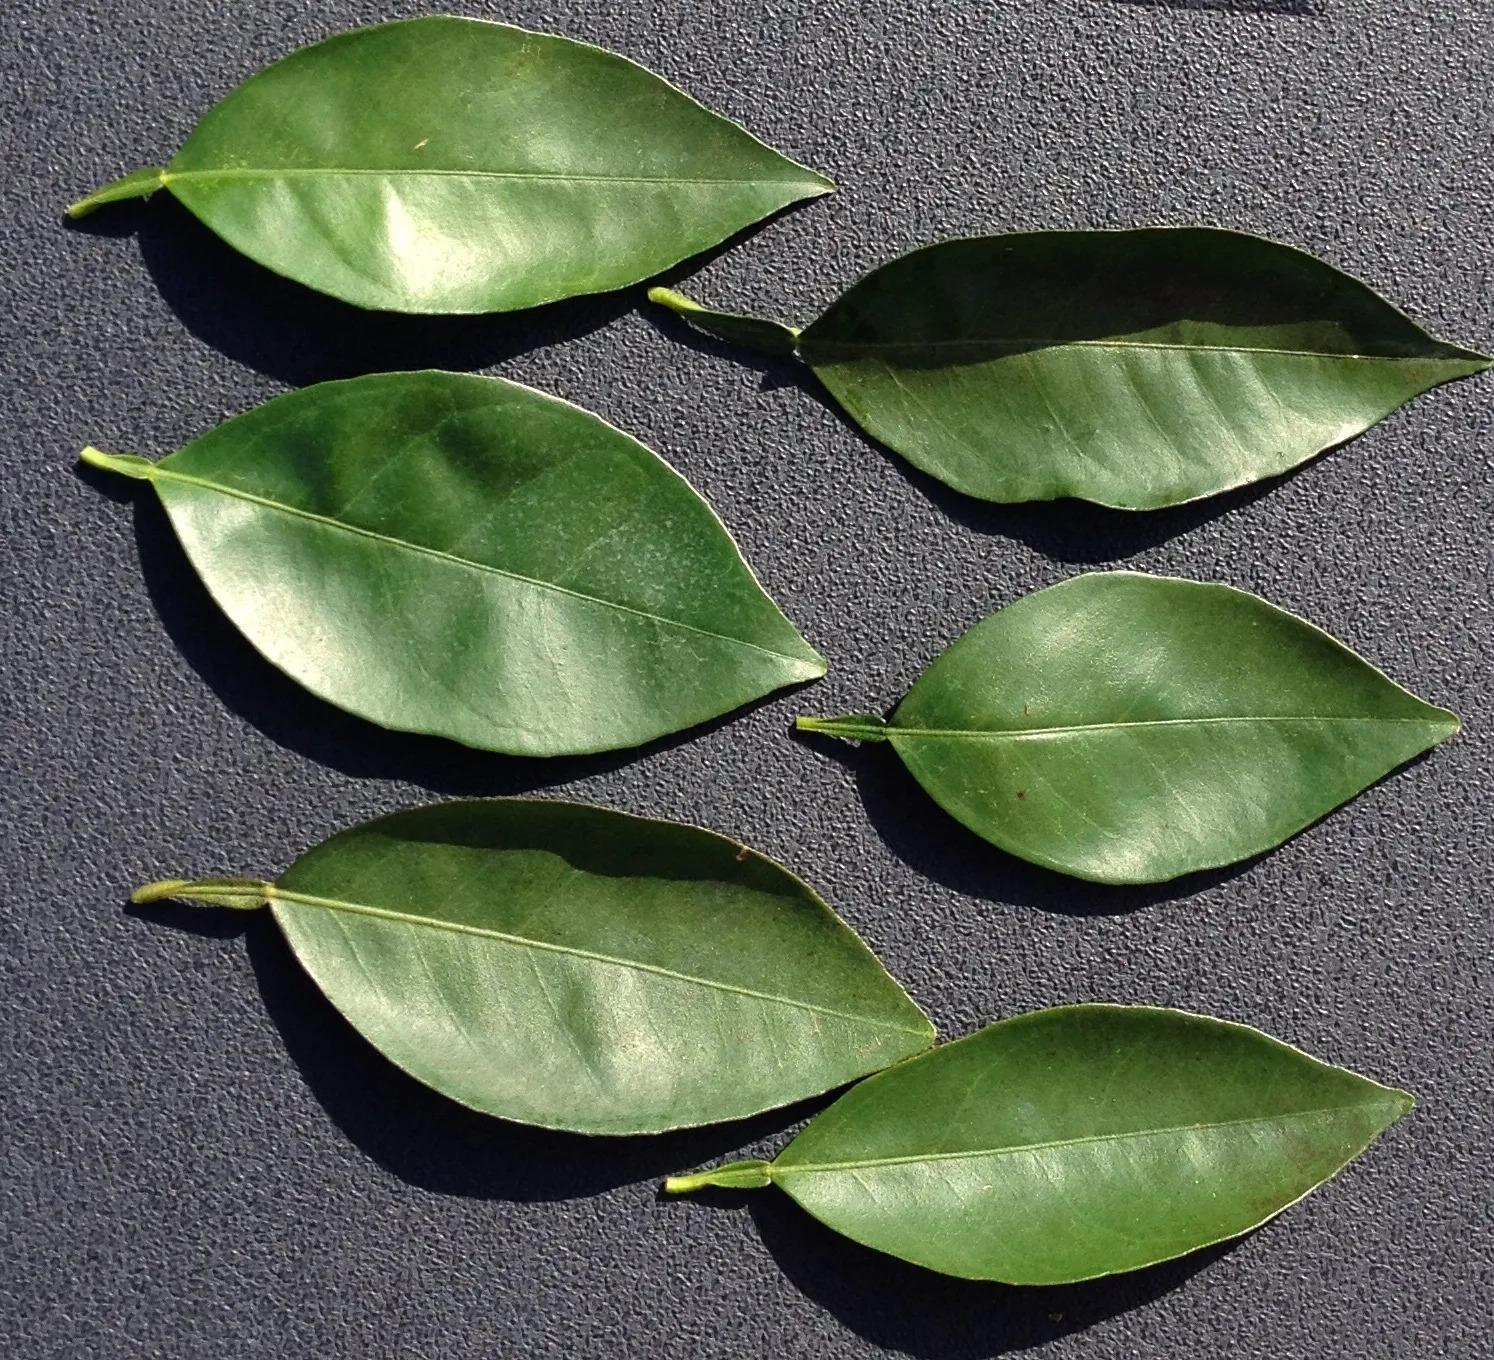Healthy Citrus: (116, 364, 819, 774), (64, 10, 849, 318), (278, 791, 943, 1123), (829, 218, 1485, 516), (886, 568, 1471, 900), (794, 1002, 1416, 1312)
